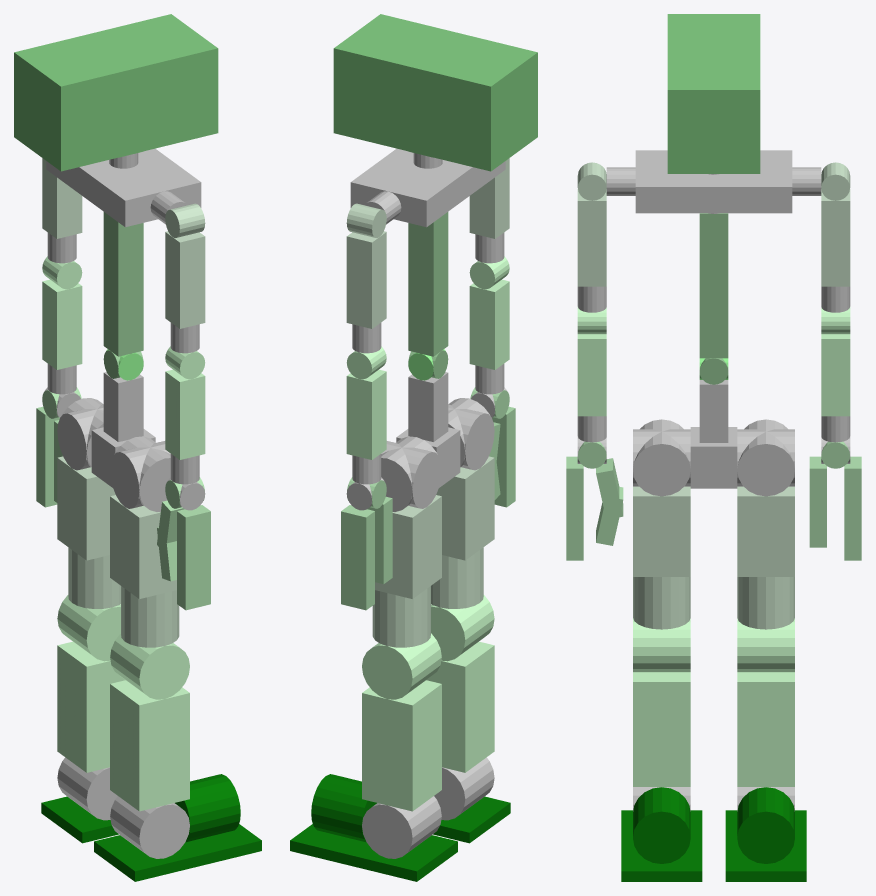
The model's file is SampleRobot.dae.
The picture shows the model from 3 angles, left to right: view 1: azimuth 30°, elevation 25°; view 2: azimuth 150°, elevation 25°; view 3: azimuth 270°, elevation 25°; orthographic projection.
Visible parts, largest first — view 1: WAIST_LINK3 (×2), RLEG_LINK4 (×2), LLEG_LINK4 (×2), RLEG_LINK3 (×2), RLEG_LINK6 (×2), LLEG_LINK3 (×2), WAIST_LINK2, RARM_LINK2 (×2), RARM_LINK4 (×2), LARM_LINK4 (×2), RARM_LINK6 (×2), WAIST_LINK0 (×2) (+16 smaller); view 2: WAIST_LINK3 (×2), LLEG_LINK4 (×2), RLEG_LINK4 (×2), LLEG_LINK3 (×2), LLEG_LINK6 (×2), RLEG_LINK3 (×2), WAIST_LINK2, LARM_LINK2 (×2), LARM_LINK4 (×2), RARM_LINK4 (×2), LARM_LINK6 (×2), WAIST_LINK0 (×2) (+16 smaller); view 3: WAIST_LINK3 (×2), LLEG_LINK4 (×2), RLEG_LINK4 (×2), LLEG_LINK3 (×2), RLEG_LINK3 (×2), LLEG_LINK6 (×2), RLEG_LINK6 (×2), WAIST_LINK2 (×2), WAIST_LINK0 (×2), LARM_LINK2 (×2), RARM_LINK2 (×2), LARM_LINK4 (×2) (+15 smaller).
Part boxes in pixels (<box>): WAIST_LINK3 (×2): <box>14,14,218,227</box>; RLEG_LINK4 (×2): <box>110,633,189,811</box>; LLEG_LINK4 (×2): <box>57,595,125,772</box>; RLEG_LINK3 (×2): <box>110,495,179,647</box>; RLEG_LINK6 (×2): <box>94,774,261,881</box>; LLEG_LINK3 (×2): <box>57,456,120,608</box>; WAIST_LINK2: <box>103,212,143,356</box>; RARM_LINK2 (×2): <box>165,203,205,328</box>; RARM_LINK4 (×2): <box>165,346,205,459</box>; LARM_LINK4 (×2): <box>42,256,82,369</box>; RARM_LINK6 (×2): <box>167,477,210,610</box>; WAIST_LINK0 (×2): <box>91,372,155,487</box>; WAIST_LINK3 (×2): <box>333,14,537,227</box>; LLEG_LINK4 (×2): <box>362,633,441,811</box>; RLEG_LINK4 (×2): <box>426,595,494,772</box>; LLEG_LINK3 (×2): <box>372,495,441,647</box>; LLEG_LINK6 (×2): <box>290,774,457,881</box>; RLEG_LINK3 (×2): <box>431,456,494,608</box>; WAIST_LINK2: <box>408,212,448,356</box>; LARM_LINK2 (×2): <box>346,203,386,328</box>; LARM_LINK4 (×2): <box>346,346,386,459</box>; RARM_LINK4 (×2): <box>469,256,509,369</box>; LARM_LINK6 (×2): <box>341,477,384,610</box>; WAIST_LINK0 (×2): <box>396,372,460,487</box>; WAIST_LINK3 (×2): <box>635,14,792,213</box>; LLEG_LINK4 (×2): <box>737,618,794,786</box>; RLEG_LINK4 (×2): <box>633,618,690,786</box>; LLEG_LINK3 (×2): <box>737,486,794,629</box>; RLEG_LINK3 (×2): <box>633,486,690,629</box>; LLEG_LINK6 (×2): <box>725,787,806,881</box>; RLEG_LINK6 (×2): <box>621,787,702,881</box>; WAIST_LINK2 (×2): <box>699,213,728,384</box>; WAIST_LINK0 (×2): <box>690,380,737,488</box>; LARM_LINK2 (×2): <box>821,162,850,286</box>; RARM_LINK2 (×2): <box>577,162,606,286</box>; LARM_LINK4 (×2): <box>821,307,850,416</box>.
Size of the model in its own units: 0.35 by 0.51 by 1.49.
